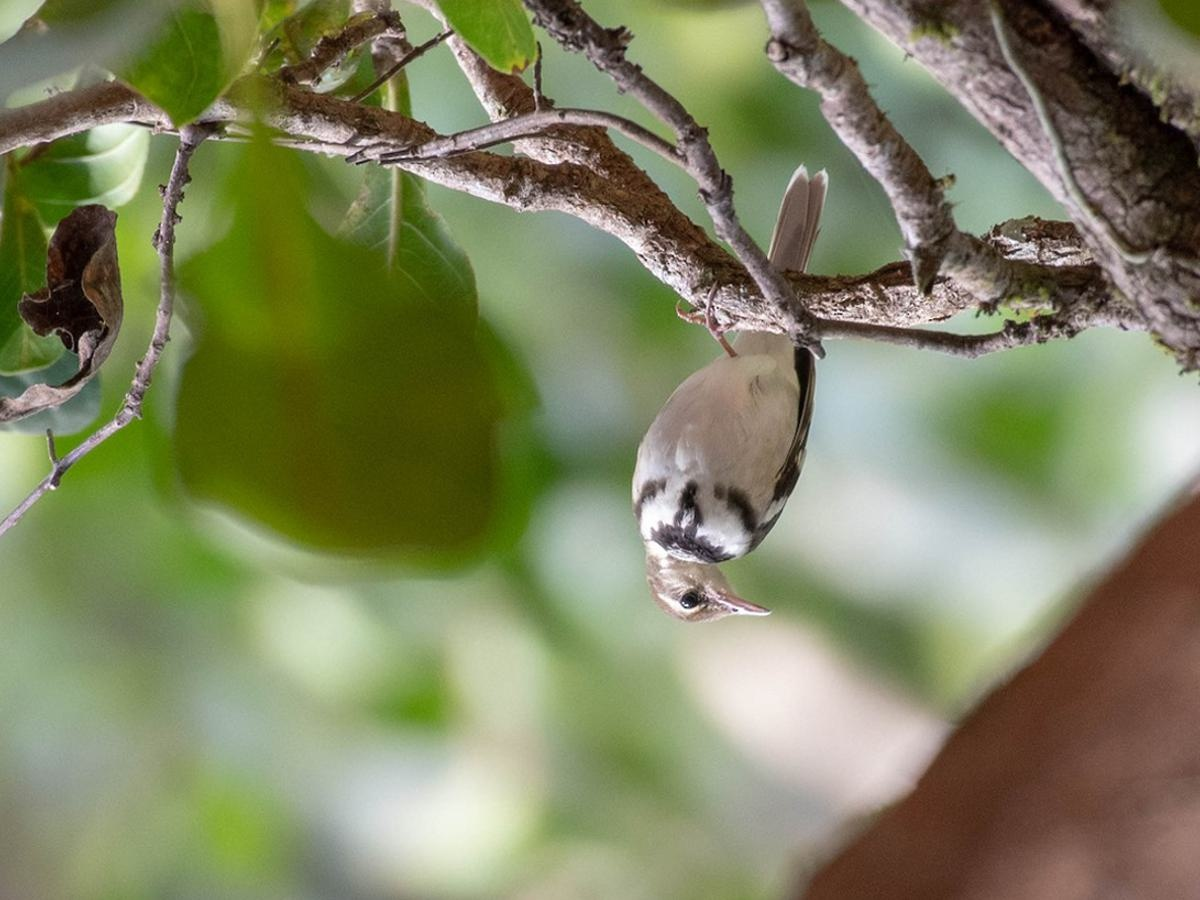wagtail: (627, 290, 848, 631)
